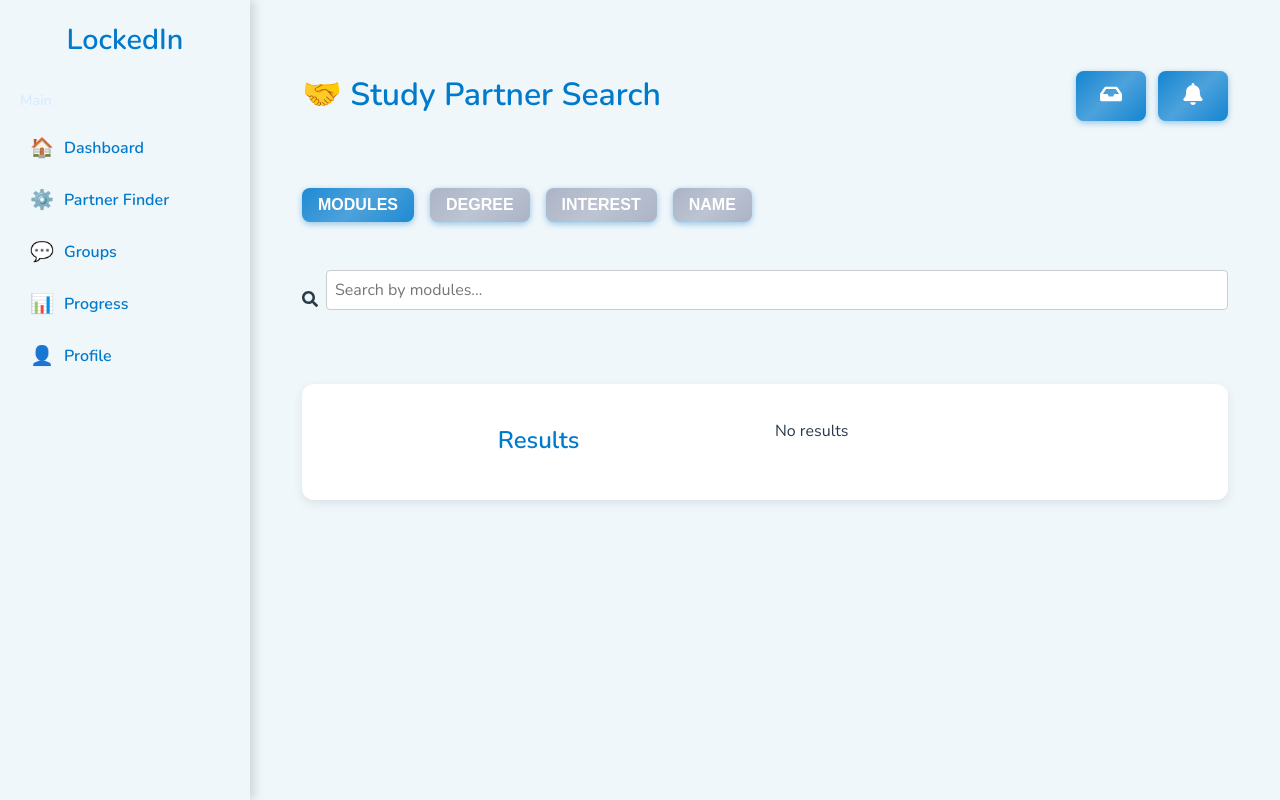
it: SearchPage › can toggle the inbox and bell to view sent and received invitations
The width and height of the screenshot is (1280, 800).
# Click inbox button to show sent invitations
Click the 1st button. click: (1111, 96)
box: [1076,71,1146,121]
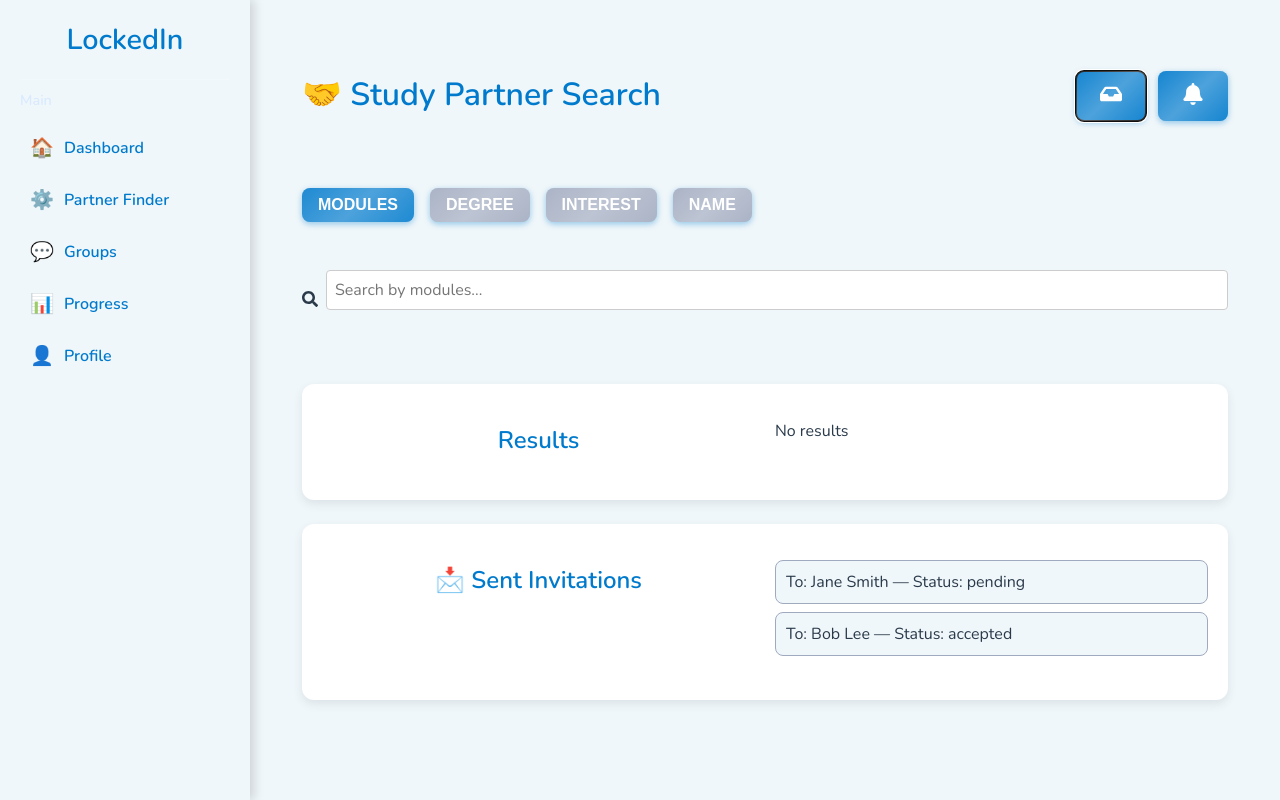
Result: the heading "📩 Sent Invitations" is shown at [435,564,642,596]
Result: the list item "To: Jane Smith — Status: pending" is shown at [775,560,1208,604]
Result: the list item "To: Bob Lee — Status: accepted" is shown at [775,612,1208,656]
# Click bell button to show received invitations
Click the 2nd button. click: (1193, 96)
box: [1158,71,1228,121]
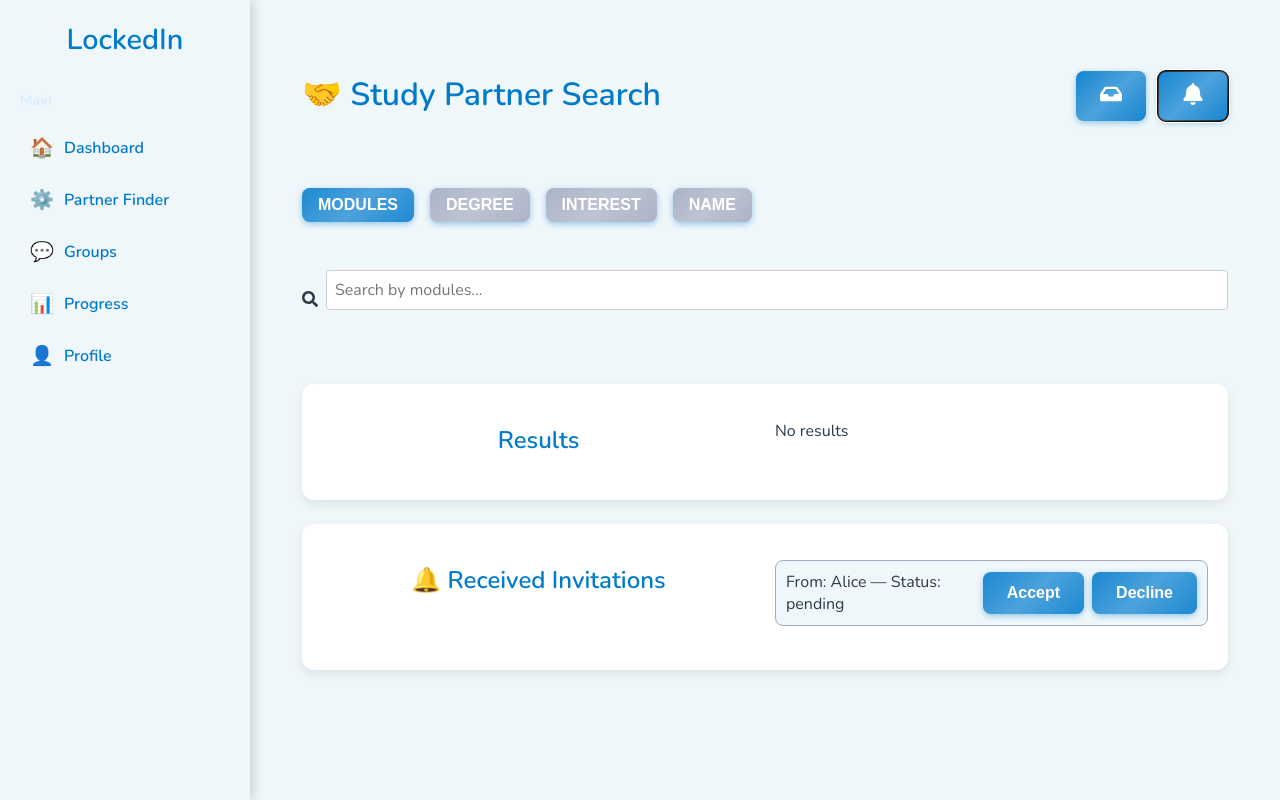
Result: the button "Accept" is shown
Result: the heading "🔔 Received Invitations" is shown at [411,564,666,596]
Result: the text "From: Alice — Status: pending" is shown at [786,571,941,615]
Click the button "Accept". click: (1033, 593)
box: [983,572,1084,614]
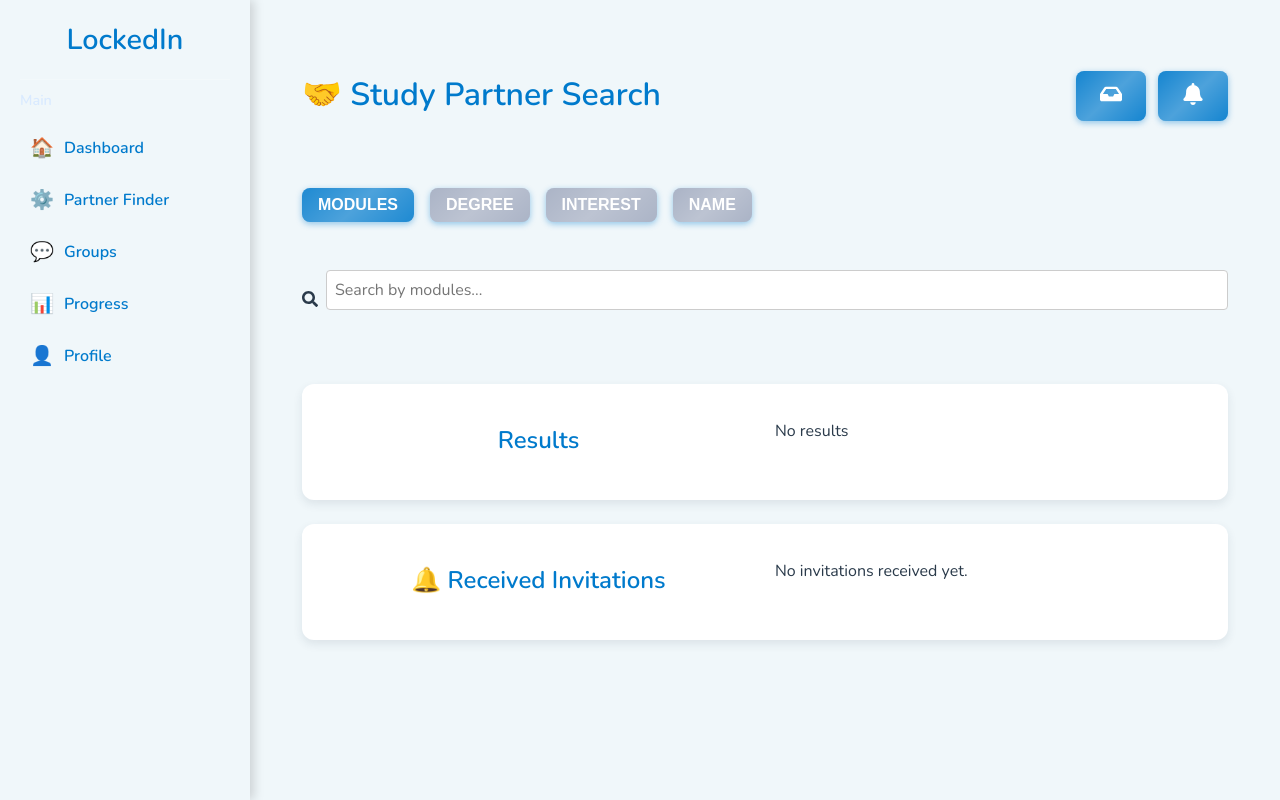
Result: the text "No invitations received yet." is shown at [775,560,968,582]
Result: the button "Accept" is gone
Result: the button "Decline" is gone
